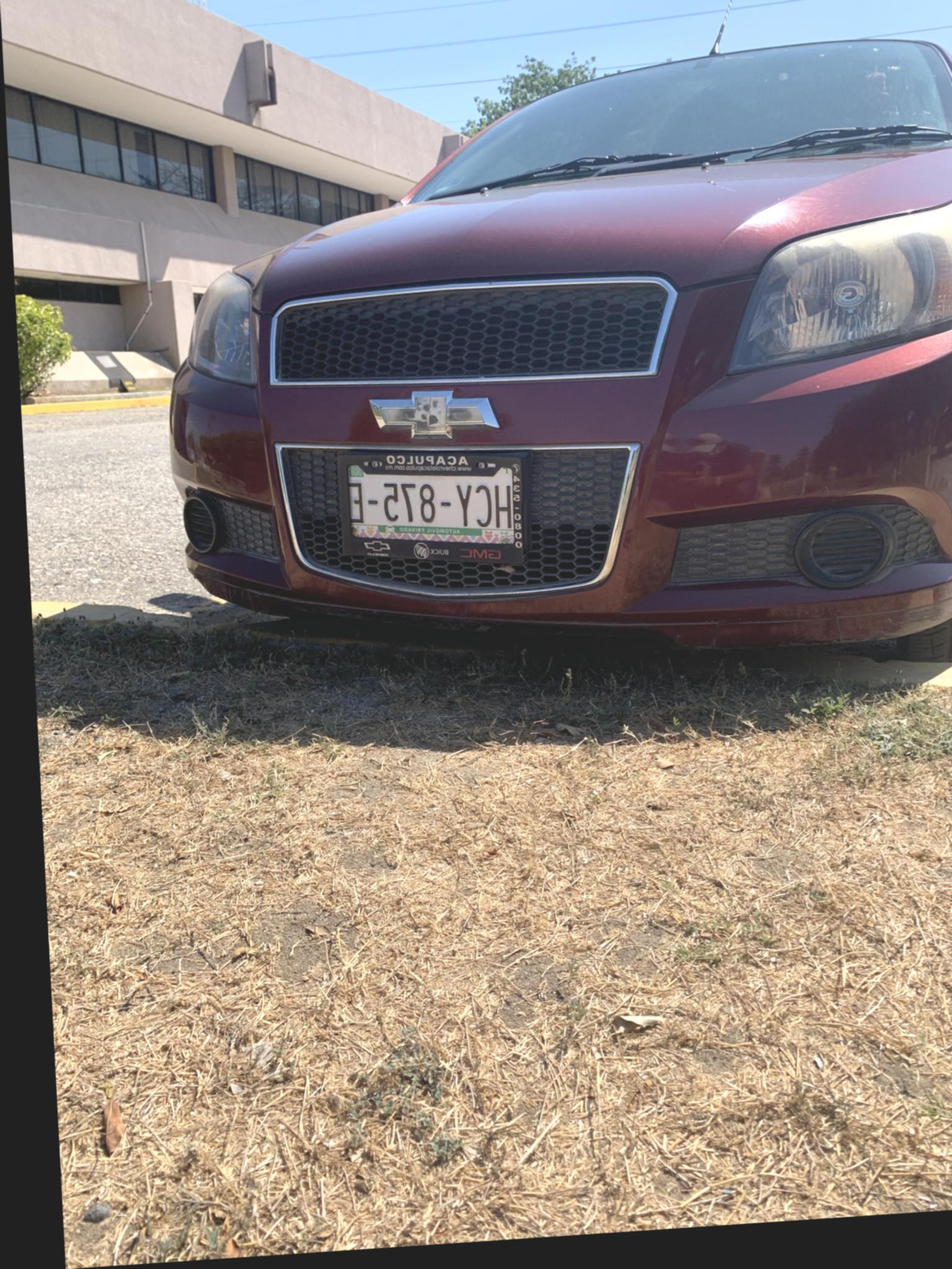License_Plate: (325, 450, 556, 578)
